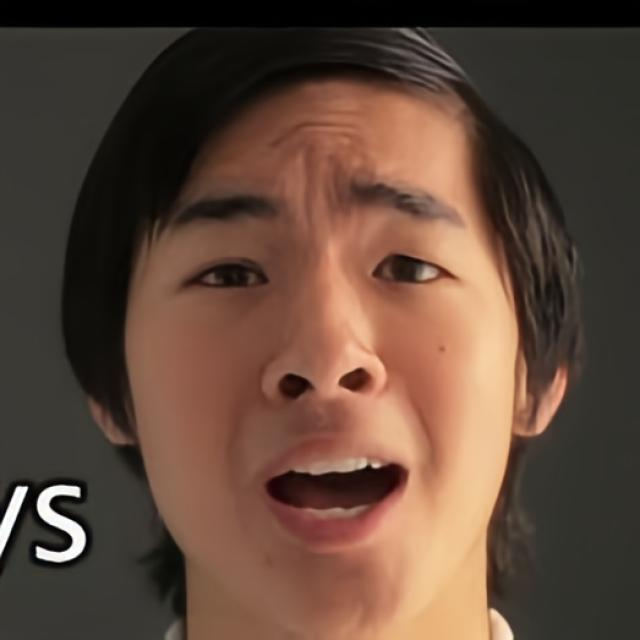fear: (127, 67, 520, 589)
